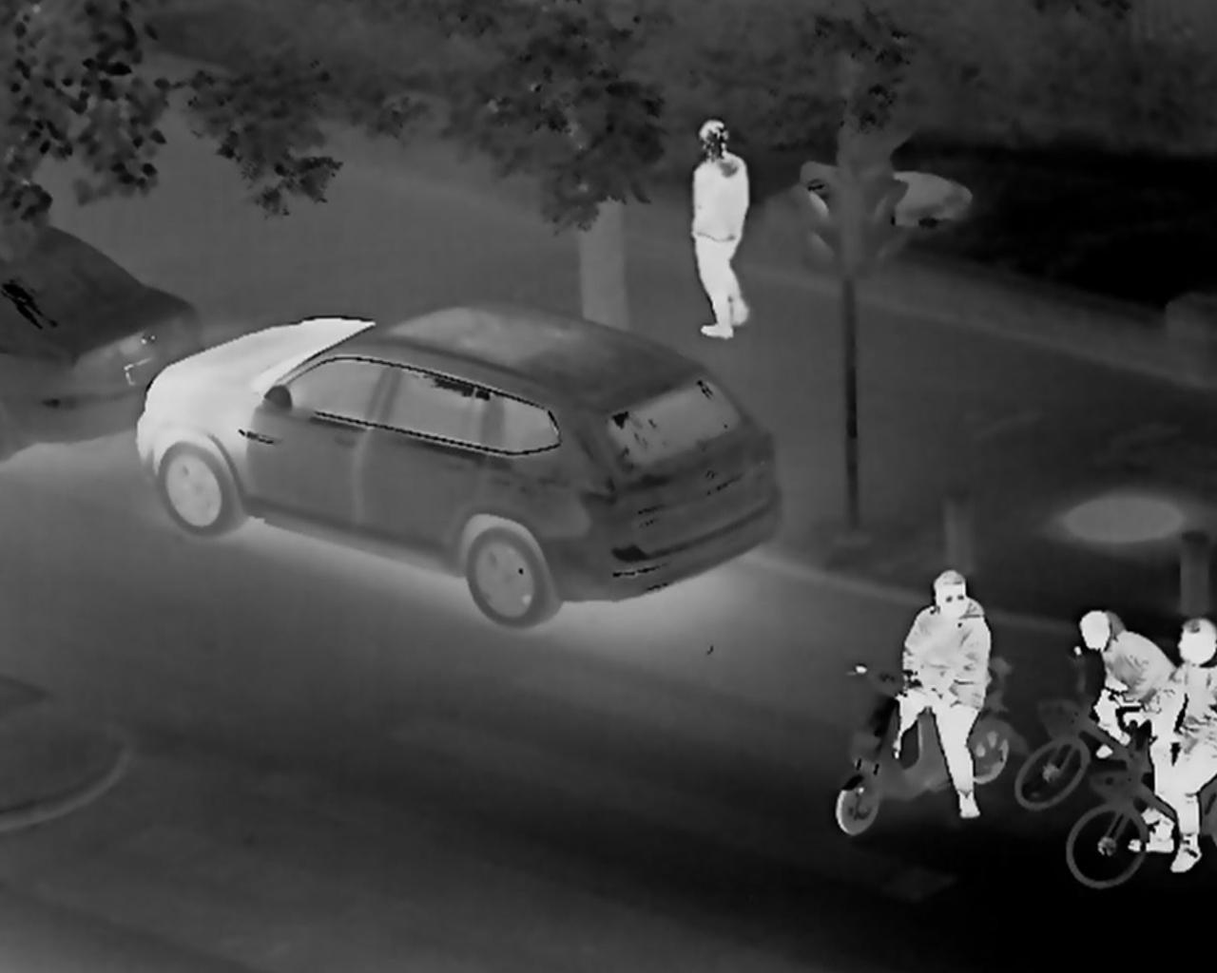person: (890, 563, 993, 823), (1121, 618, 1217, 881), (1073, 605, 1180, 823), (682, 112, 761, 341)
